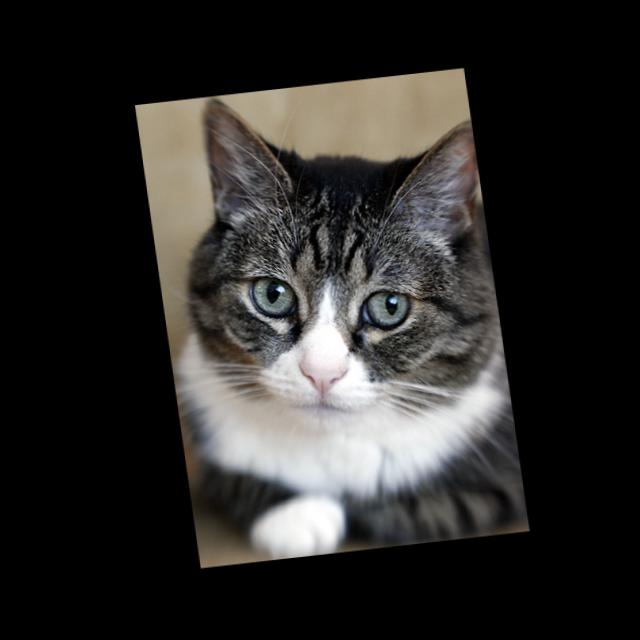animals: (196, 72, 504, 400)
